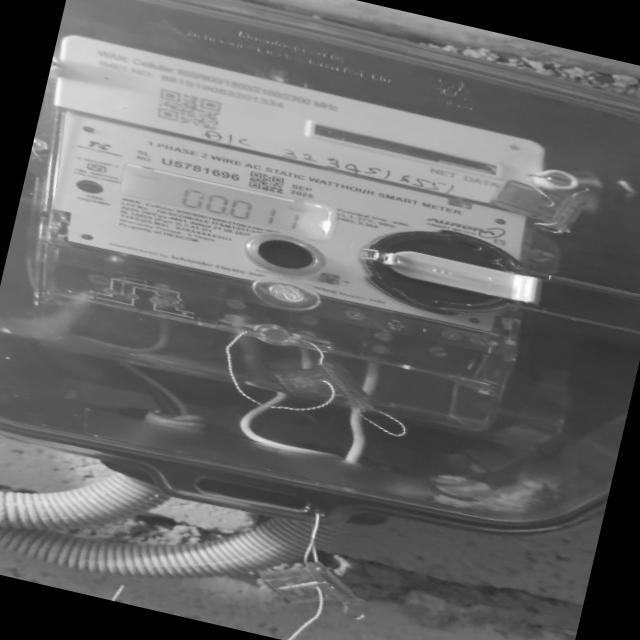meter: (13, 26, 570, 344)
